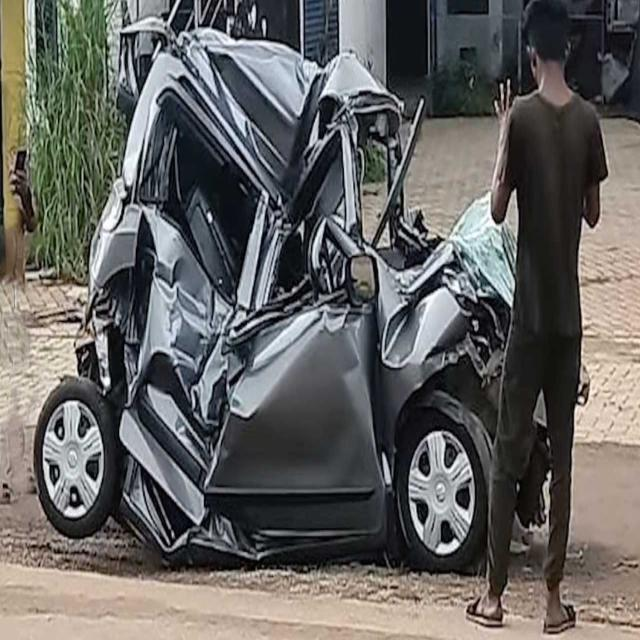accident: (35, 20, 516, 569)
